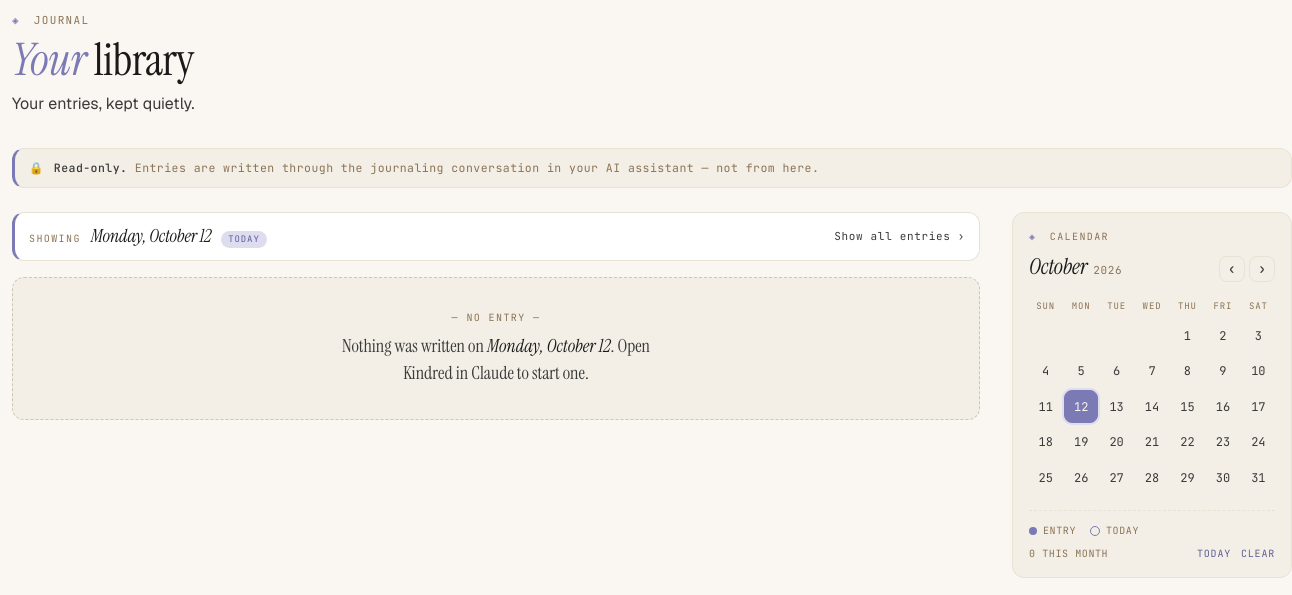
Test case: Home › renders the date column for a December entry
Click the button "Show all entries ›" at (900, 236), box x1=834 y1=228 x2=965 y2=244
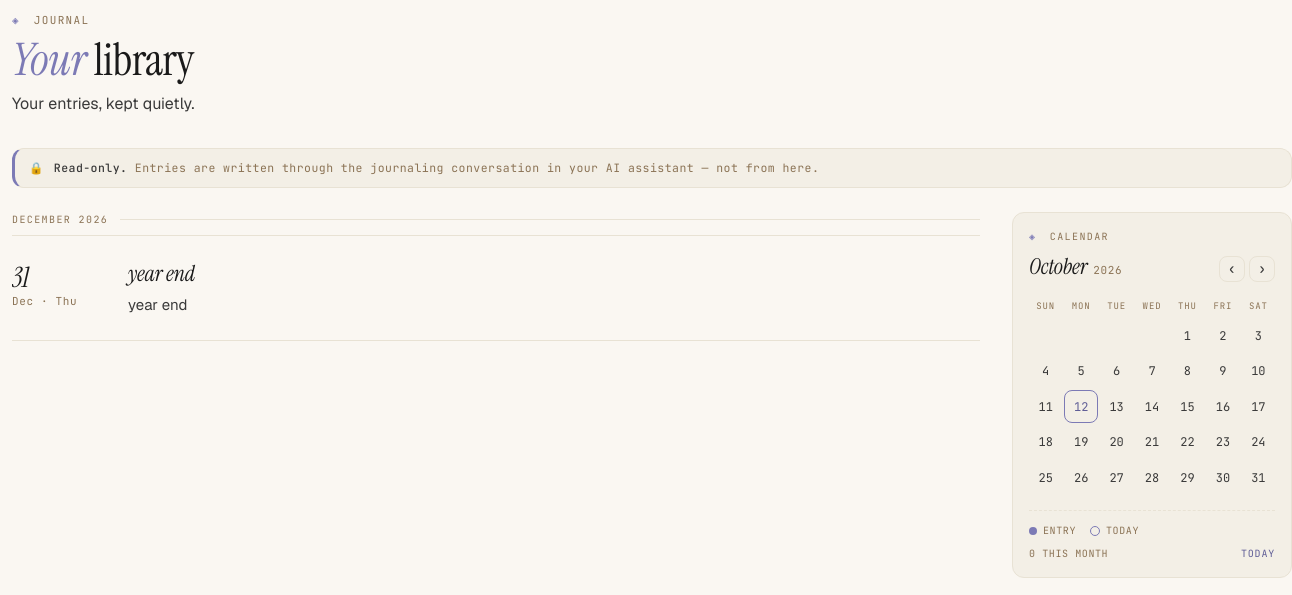
Now the text with class "day" reads "31", box x1=12 y1=259 x2=29 y2=296
Now the element with class "entry-date" shows "Dec · Thu", box x1=12 y1=259 x2=77 y2=308
